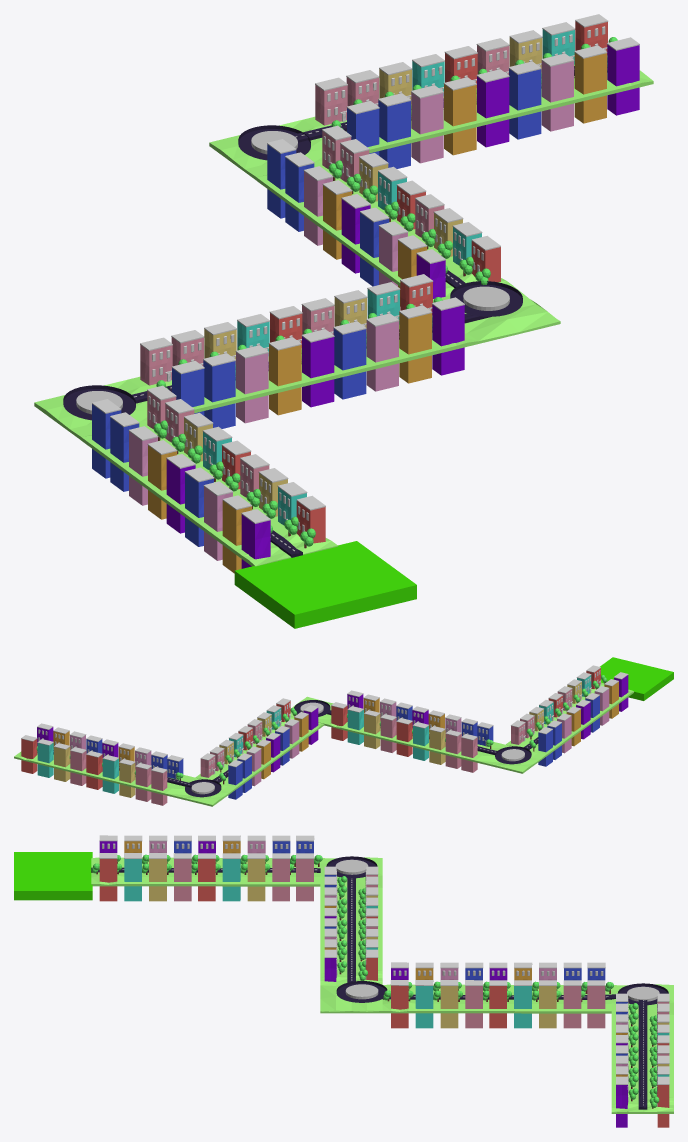
File: homs.fbx
3 renders of one model, top to bottom at view 1: azimuth 30°, elevation 25°; view 2: azimuth 150°, elevation 25°; view 3: azimuth 270°, elevation 25°, orthographic. The views are drawn at different scales.
Visible parts, largest first — view 1: Cube, ground.003, ground, road.001, ground.002, ground.001, building.074, building.065, building.005, building.066, building.006, building.014 (+51 smaller); view 2: ground.003, Cube, ground, road.001, ground.002, ground.001, road.002, building.003, building.076, building.064, building.012, building.015 (+51 smaller); view 3: Cube, ground.003, ground, ground.002, ground.001, road.001, road, road.002, road.003, building.040, building.023, building.032 (+17 smaller).
Part boxes in pixels (x1,y1,x2,y2): Cube: (234,541,416,628); ground.003: (34,285,560,439); ground: (209,55,653,180); road.001: (238,125,522,316); ground.002: (81,420,337,566); ground.001: (256,160,512,302); building.074: (333,321,366,399); building.065: (301,329,334,407); building.005: (508,61,541,139); building.066: (268,337,301,415); building.006: (541,53,574,131); building.014: (476,69,509,147); ground.003: (290,696,546,773); Cube: (600,657,673,700); ground: (14,751,236,806); road.001: (185,700,330,797); ground.002: (506,682,633,756); ground.001: (195,715,324,788); road.002: (495,737,538,764); building.003: (37,739,53,777); building.076: (347,706,363,744); building.064: (396,718,412,756); building.012: (102,755,118,793); building.015: (86,751,102,789); Cube: (14,852,92,900); ground.003: (320,857,382,1013); ground: (611,984,673,1113); ground.002: (91,857,320,886); ground.001: (382,984,611,1013); road.001: (336,981,668,1005); road: (582,994,647,1109); road.002: (91,856,377,878); road.003: (347,878,355,982); building.040: (99,853,117,901); building.023: (587,980,605,1028); building.032: (440,980,458,1028).
Bounding box in the file's own units: 48058 × 3712 × 51445.
